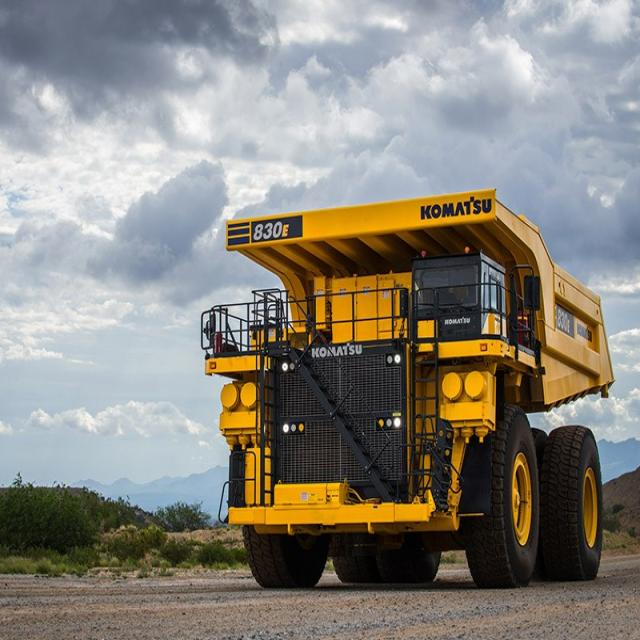dump_truck: (203, 188, 612, 584)
